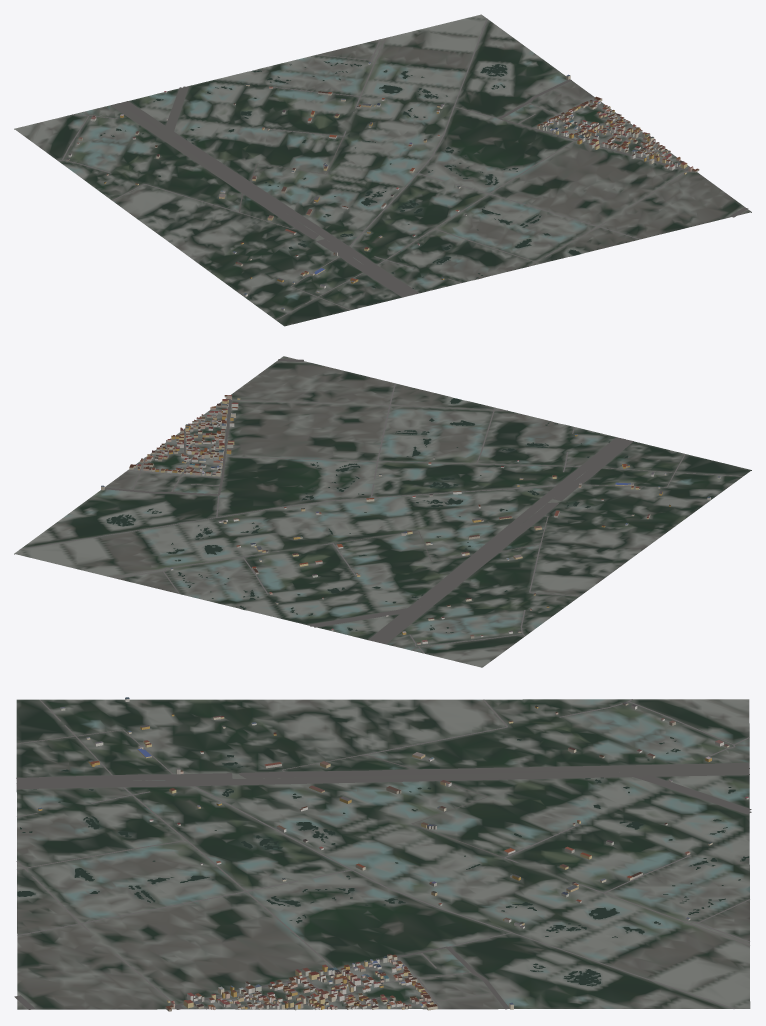
3 views of the same model, one above another, from view 1: azimuth 30°, elevation 25°; view 2: azimuth 150°, elevation 25°; view 3: azimuth 270°, elevation 25° (orthographic). The views are drawn at different scales.
Parts seen in each view (by area): view 1: ground, roads, buildings, water; view 2: ground, roads, buildings, water; view 3: ground, roads, buildings, water.
Part boxes in pixels (bbox=[...]): ground: bbox=[14, 14, 751, 326]; roads: bbox=[57, 18, 748, 320]; buildings: bbox=[66, 62, 699, 310]; water: bbox=[100, 61, 580, 288]; ground: bbox=[14, 356, 751, 667]; roads: bbox=[20, 359, 743, 653]; buildings: bbox=[101, 395, 720, 644]; water: bbox=[106, 398, 628, 632]; ground: bbox=[16, 699, 750, 1009]; roads: bbox=[14, 699, 751, 1009]; buildings: bbox=[38, 697, 748, 1011]; water: bbox=[17, 737, 749, 986].
Bounding box in the file's own units: 1414 × 17.5 × 1412.
